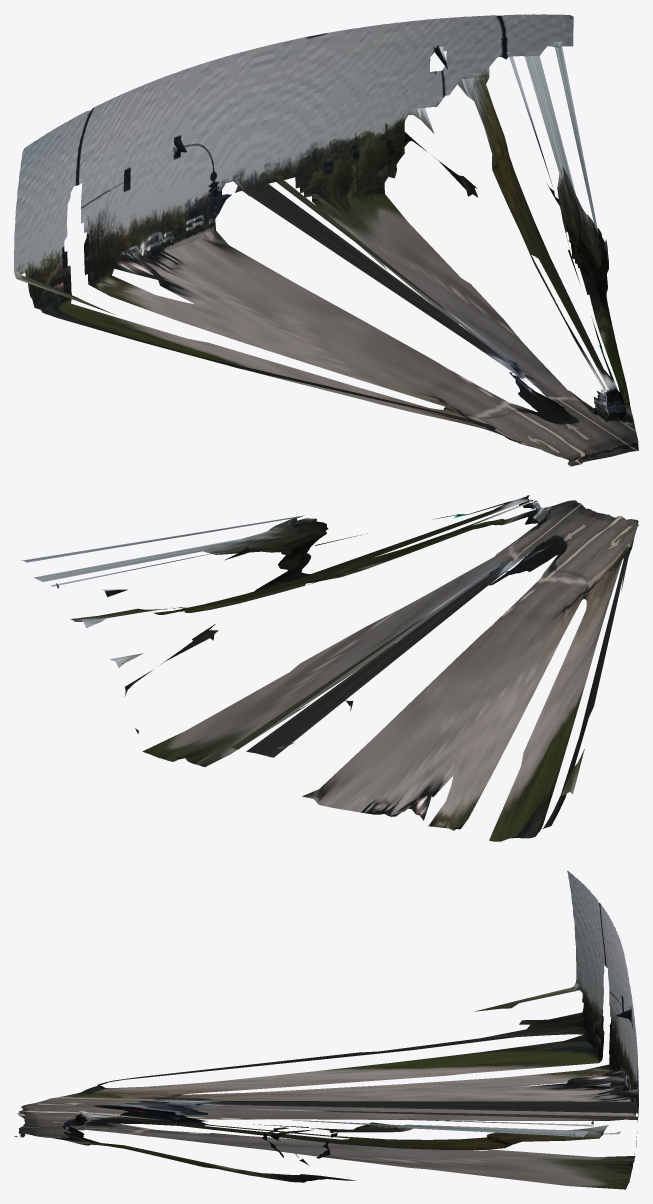
3 renders of one model, top to bottom at view 1: azimuth 30°, elevation 25°; view 2: azimuth 150°, elevation 25°; view 3: azimuth 270°, elevation 25°, orthographic. The views are drawn at different scales.
Parts seen in each view (by area): view 1: defaultobject; view 2: defaultobject; view 3: defaultobject.
Boxes of the visible parts, x1=… form: defaultobject: x1=14, y1=14, x2=638, y2=466; defaultobject: x1=21, y1=495, x2=638, y2=841; defaultobject: x1=14, y1=870, x2=638, y2=1189.
Bounding box in the file's own units: 40.98 × 13.75 × 44.65.
1 material, 1 textured.
